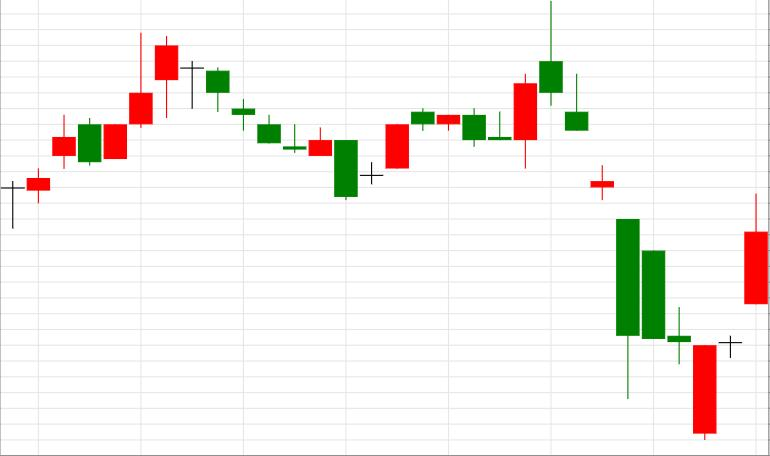shooting_star_fall: (361, 0, 564, 185), (1, 31, 153, 231)
